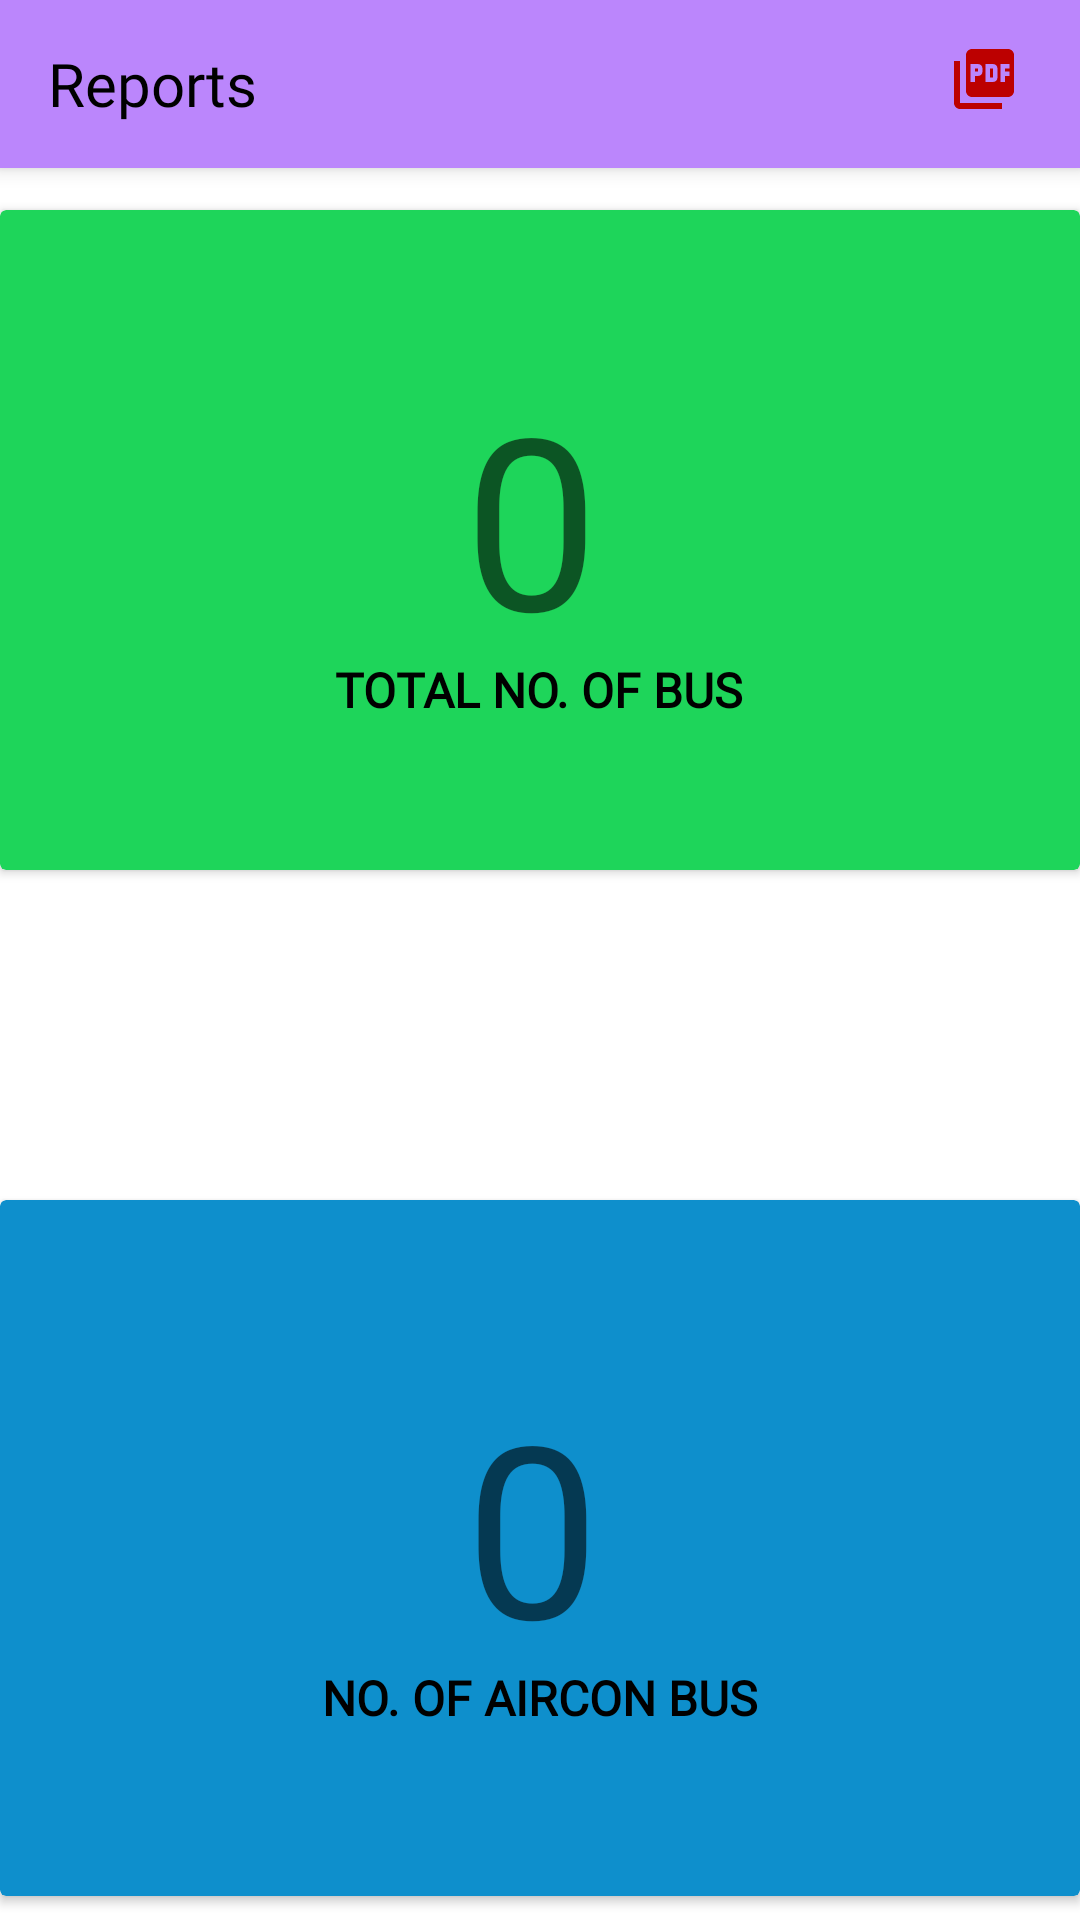

Where icons sit on this 1080 x 1920 app screen, as rect(x1, y1, x2, y2):
picture as pdf: rect(954, 49, 1014, 109)
